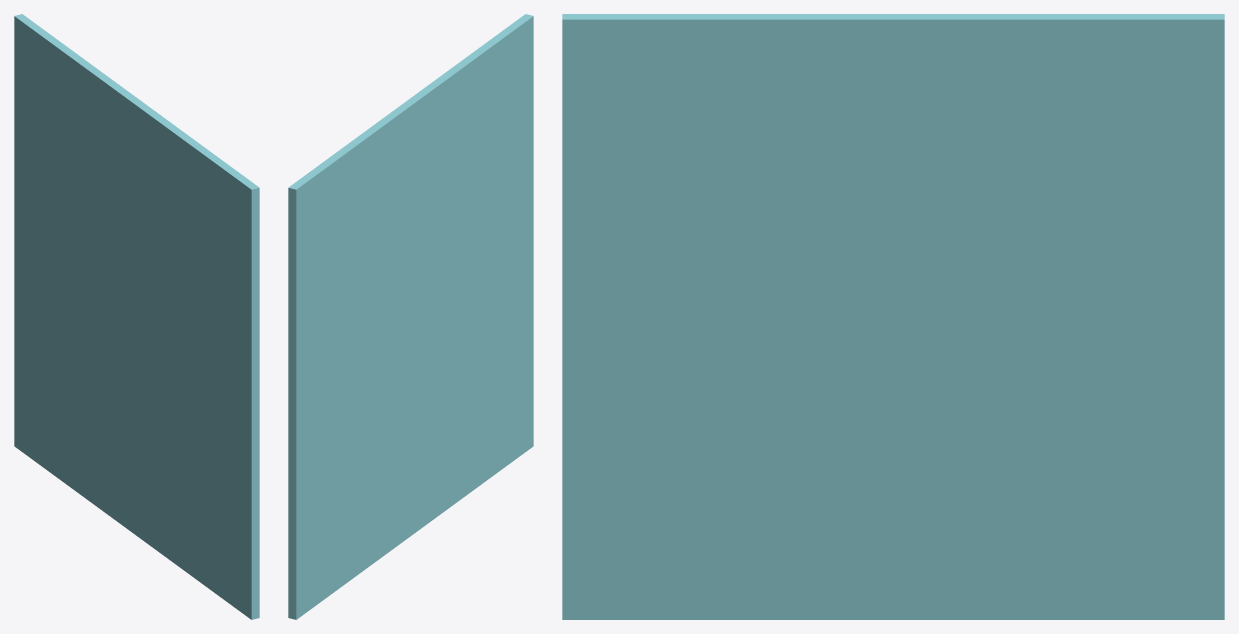
Rendered from glass_broken.fbx.
The picture shows the model from 3 angles, left to right: view 1: azimuth 30°, elevation 25°; view 2: azimuth 150°, elevation 25°; view 3: azimuth 270°, elevation 25°; orthographic projection. The views are drawn at different scales.
Visible parts, largest first — view 1: Cube.014, Cube.003, Cube.036, Cube.035, Cube.049, Cube.016, Cube.052, Cube.028, Cube.024, Cube.029, Cube.058, Cube.009 (+38 smaller); view 2: Cube.014, Cube.003, Cube.036, Cube.035, Cube.016, Cube.052, Cube.049, Cube.028, Cube.041, Cube.045, Cube.009, Cube.029 (+39 smaller); view 3: Cube.014, Cube.003, Cube.036, Cube.035, Cube.016, Cube.049, Cube.052, Cube.028, Cube.029, Cube.009, Cube.058, Cube.024 (+40 smaller).
Boxes of the visible parts, <box> form: Cube.014: <box>28,111,102,293</box>; Cube.003: <box>123,127,221,259</box>; Cube.036: <box>77,319,140,447</box>; Cube.035: <box>134,333,204,447</box>; Cube.049: <box>191,446,259,538</box>; Cube.016: <box>88,151,132,318</box>; Cube.052: <box>140,448,191,553</box>; Cube.028: <box>132,268,207,365</box>; Cube.024: <box>212,229,259,348</box>; Cube.029: <box>195,366,259,448</box>; Cube.058: <box>181,539,259,619</box>; Cube.009: <box>22,20,104,124</box>; Cube.014: <box>310,195,384,358</box>; Cube.003: <box>405,65,504,189</box>; Cube.036: <box>360,364,422,499</box>; Cube.035: <box>416,261,486,387</box>; Cube.016: <box>370,191,414,363</box>; Cube.052: <box>423,388,473,523</box>; Cube.049: <box>473,275,533,404</box>; Cube.028: <box>414,208,489,330</box>; Cube.041: <box>288,430,326,553</box>; Cube.045: <box>288,487,333,619</box>; Cube.009: <box>296,144,386,205</box>; Cube.029: <box>477,240,533,356</box>; Cube.014: <box>977,98,1185,331</box>; Cube.003: <box>644,14,921,185</box>; Cube.036: <box>872,352,1047,537</box>; Cube.035: <box>693,313,889,459</box>; Cube.016: <box>895,117,1017,351</box>; Cube.049: <box>562,380,729,534</box>; Cube.052: <box>730,459,871,619</box>; Cube.028: <box>684,208,894,339</box>; Cube.029: <box>562,305,719,437</box>; Cube.009: <box>971,14,1202,97</box>; Cube.058: <box>562,535,758,619</box>; Cube.024: <box>562,97,670,241</box>.
Bounding box in the file's own units: 2 × 100 × 100.
